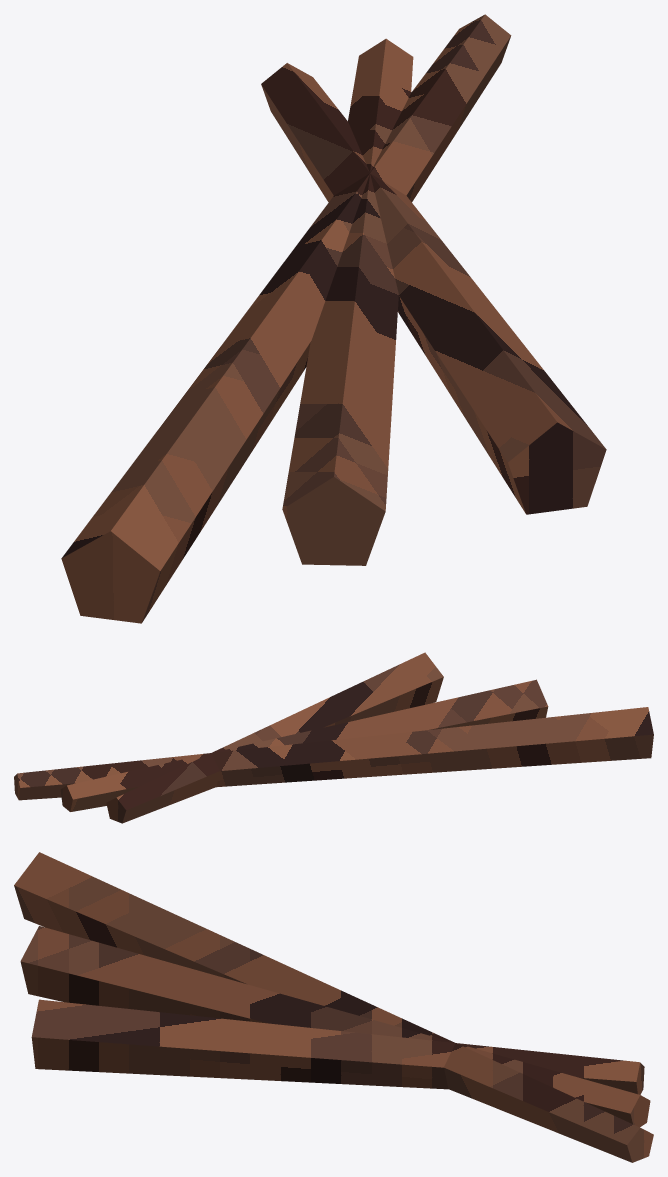
The model's file is enfeite_raiz_chao.glb.
3 views of the same model, one above another, from view 1: azimuth 30°, elevation 25°; view 2: azimuth 150°, elevation 25°; view 3: azimuth 270°, elevation 25° (orthographic). The views are drawn at different scales.
Parts seen in each view (by area): view 1: pedreira_enfeite_raiz_chao; view 2: pedreira_enfeite_raiz_chao; view 3: pedreira_enfeite_raiz_chao.
Part boxes in pixels (x1,y1,x2,y2): pedreira_enfeite_raiz_chao: [61, 14, 606, 623]; pedreira_enfeite_raiz_chao: [14, 652, 653, 823]; pedreira_enfeite_raiz_chao: [14, 852, 653, 1162].
Bounding box in the file's own units: 0.3489 × 0.0344 × 0.3301.
1 material, 1 textured.
